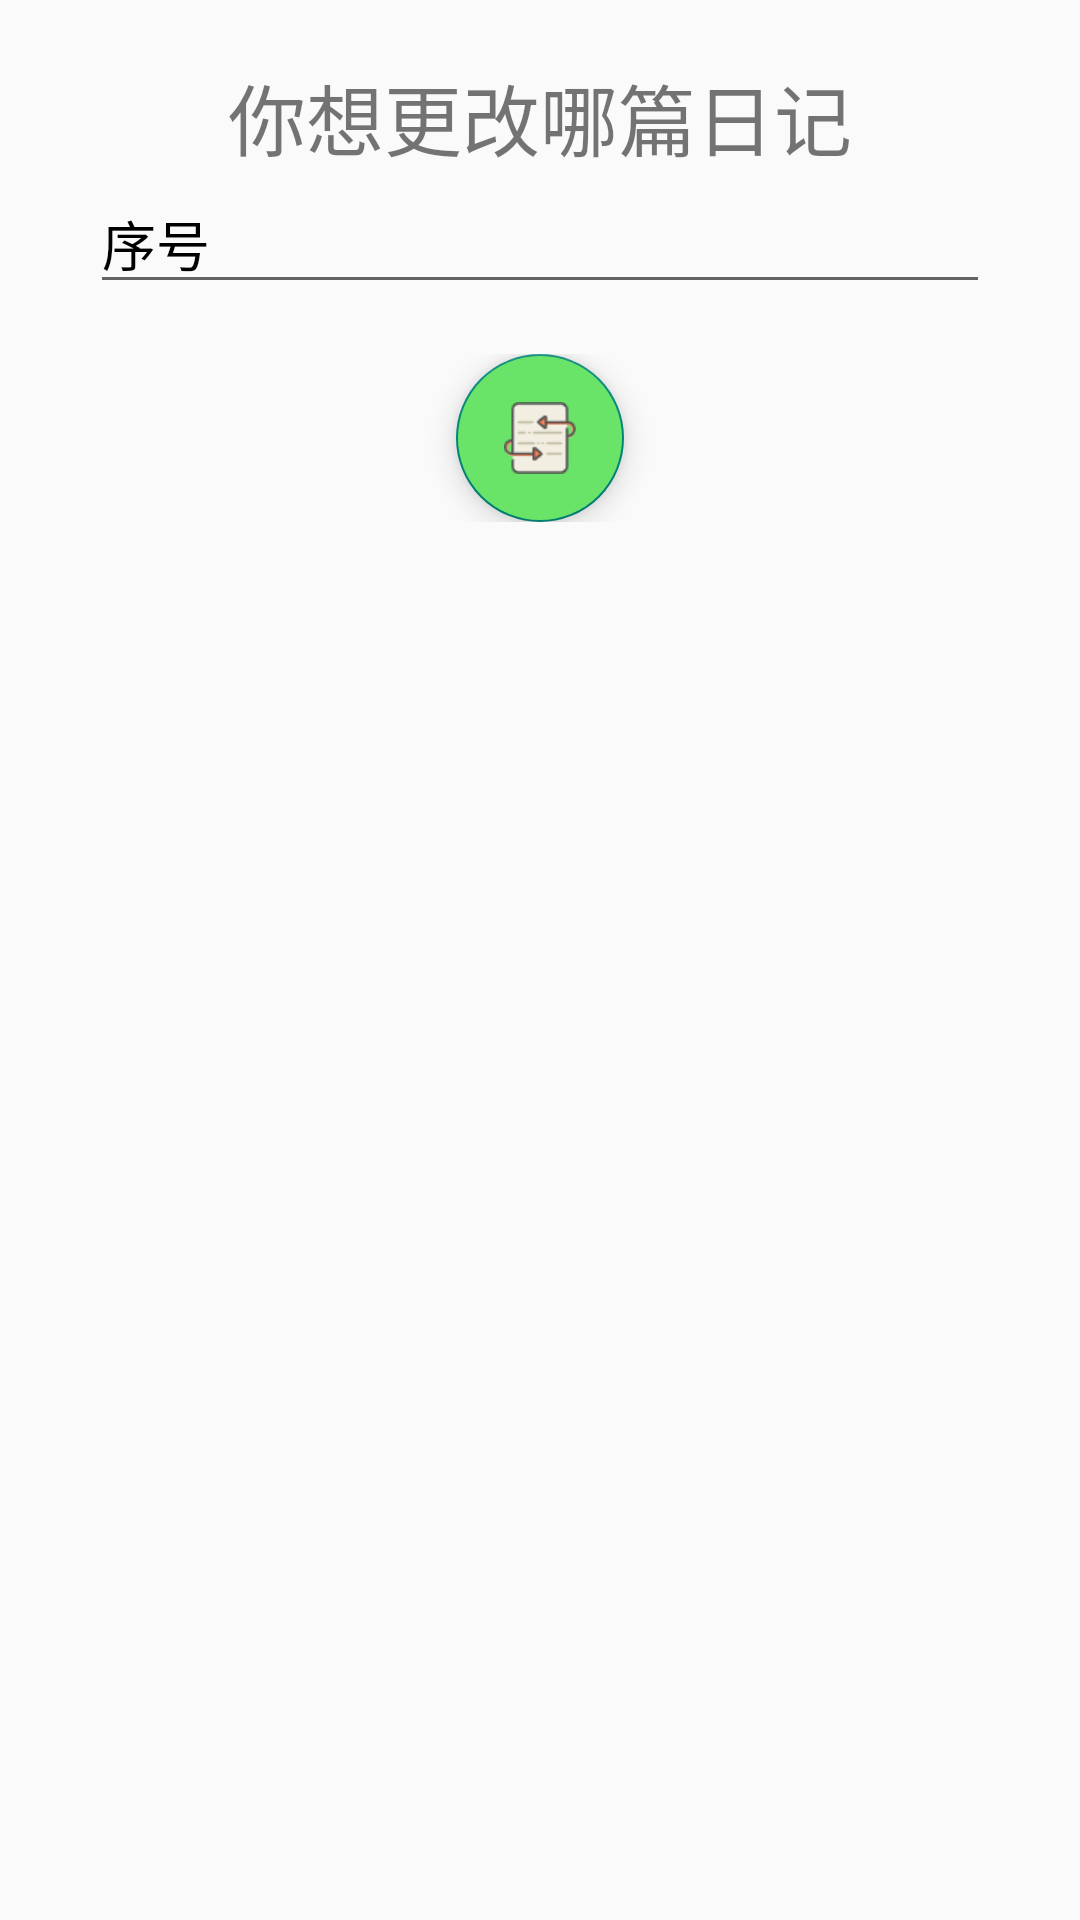

Named icons in this screenshot (1080*1920) and their centers, (x=x, y=y):
update: (x=540, y=438)
